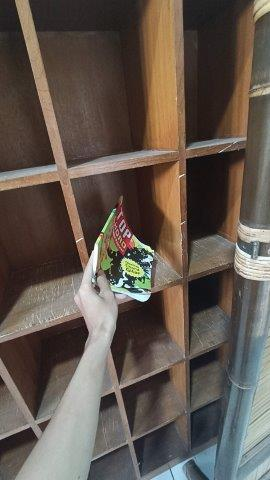kertas: (85, 194, 157, 304)
